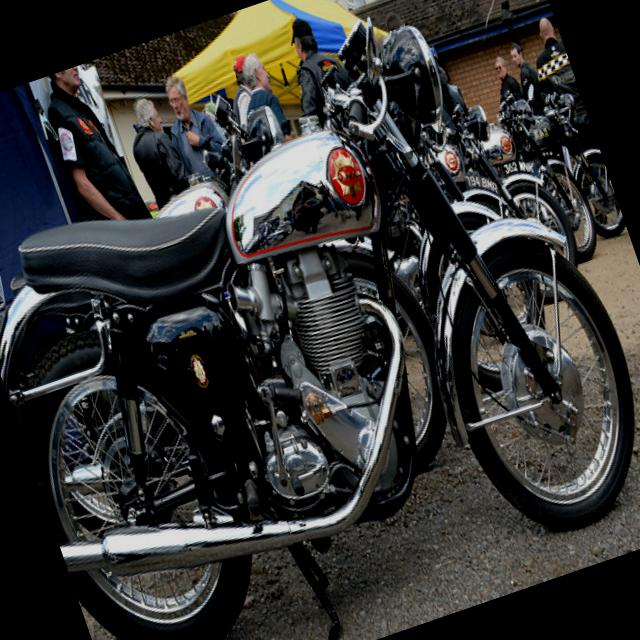Vehicle: (0, 0, 640, 640), (148, 74, 525, 341), (446, 80, 596, 318), (468, 72, 608, 282), (518, 83, 629, 254), (185, 80, 292, 189)
